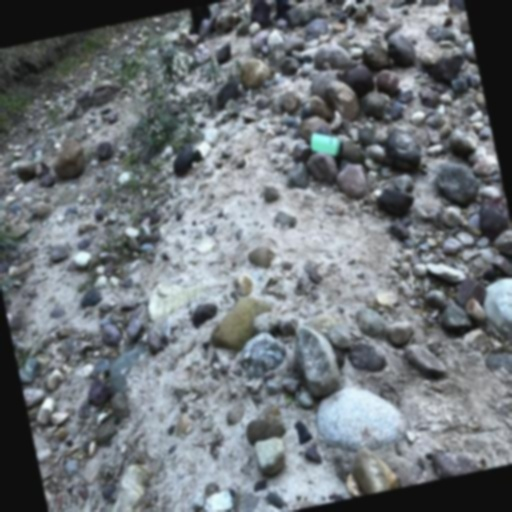bottle: (308, 127, 346, 162)
